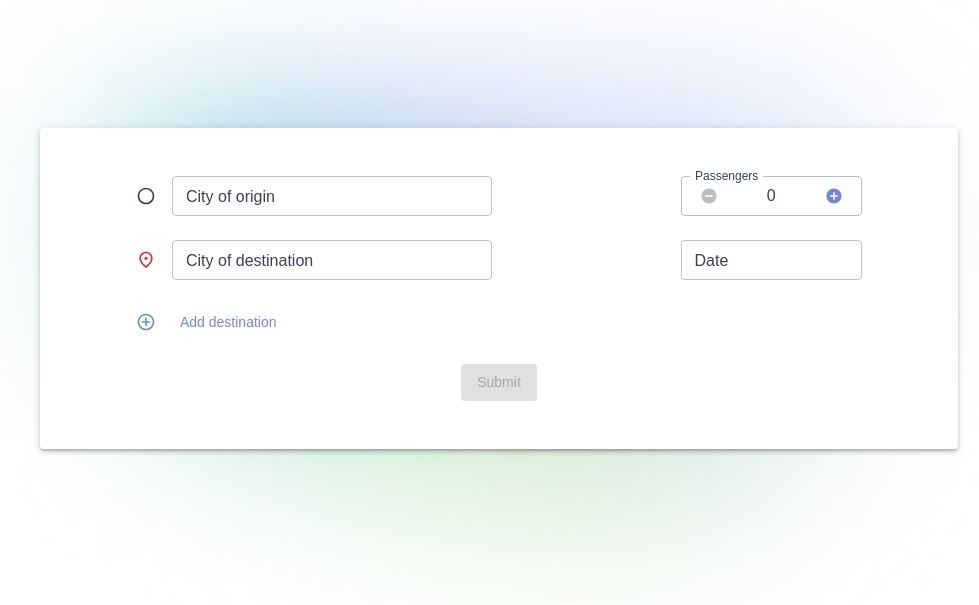
Test: Search Page › should show an error when the first destination field was touched and there is no value selected
Type "Paris" into the field with id "destination-field-0" at x=332, y=196, box [172,176,492,216]
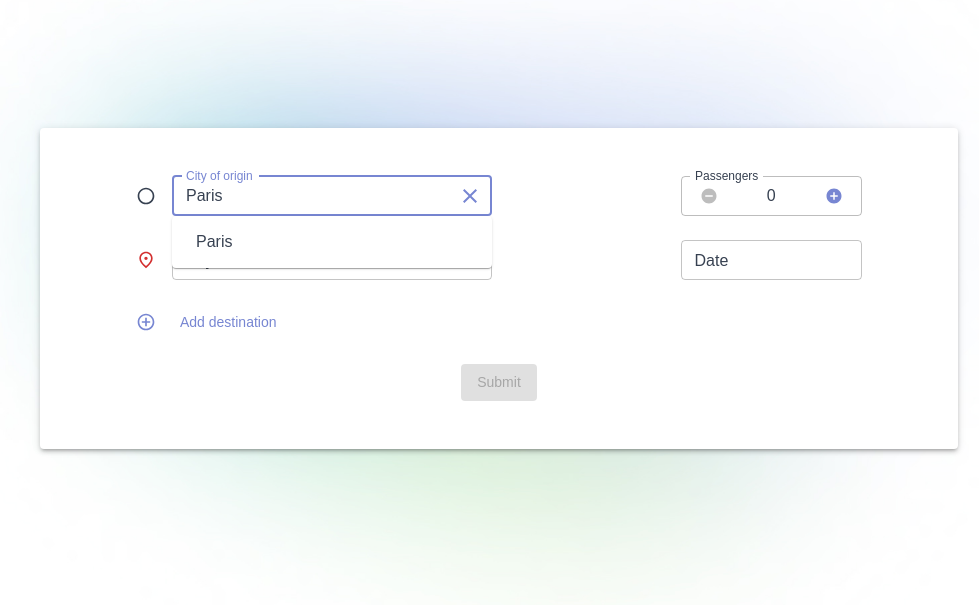
Click the icon with test id "ClearIcon" at x=470, y=196, box [458,184,482,208]
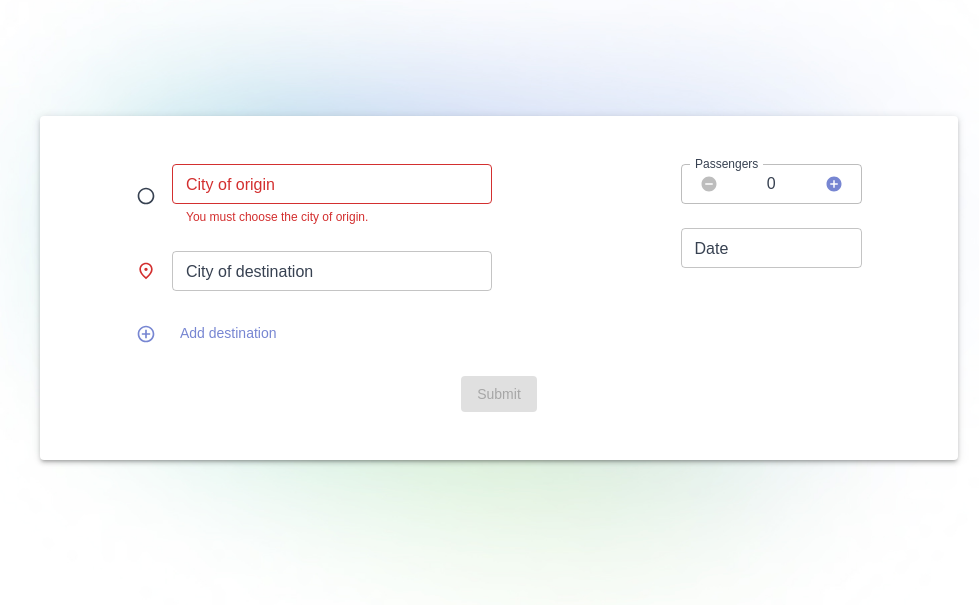
Now the text with id "destination-field-0-helper-text" reads "You must choose the city of origin.", box [186,210,368,224]
